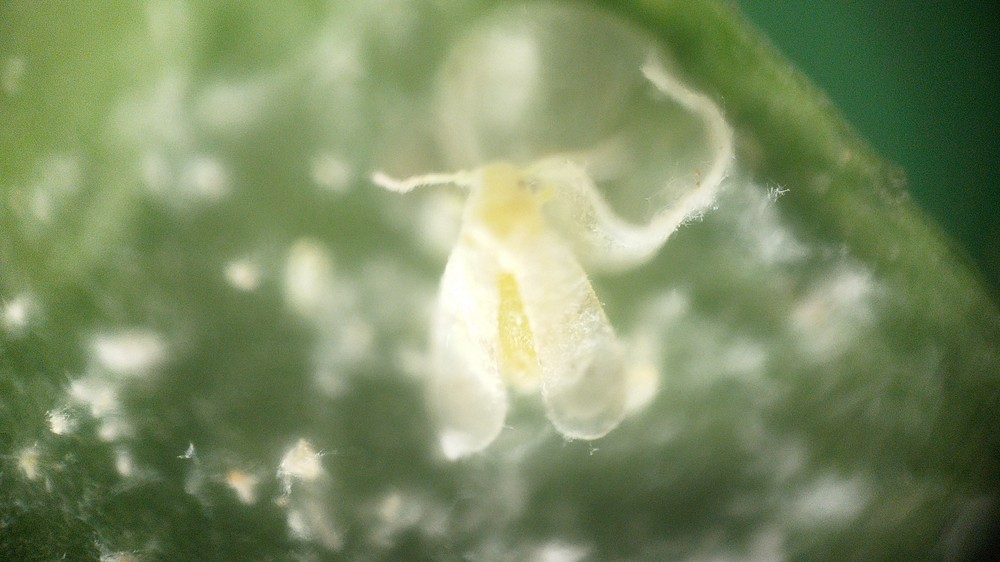Mosca Blanca: (351, 139, 699, 472)
